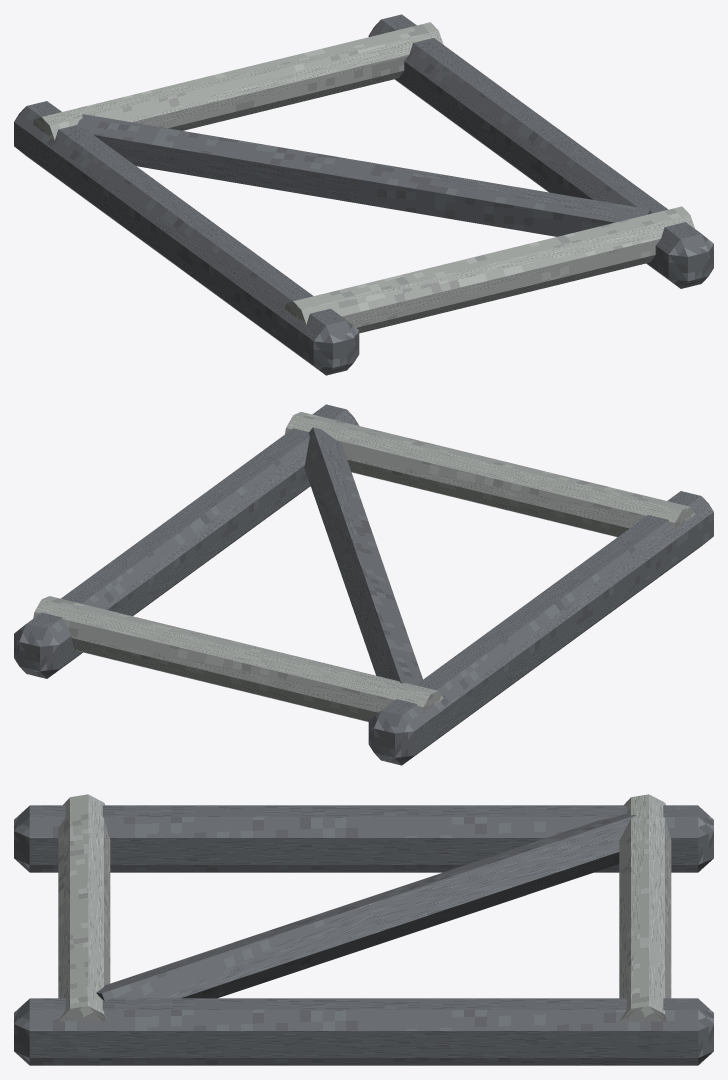
File: xlframe.glb
The picture shows the model from 3 angles, top to bottom: view 1: azimuth 30°, elevation 25°; view 2: azimuth 150°, elevation 25°; view 3: azimuth 270°, elevation 25°; orthographic projection. The views are drawn at different scales.
Parts seen in each view (by area): view 1: block_longitudinal frame rail (×2), block_cross brace (×2), block_diagonal structural member 0, block_diagonal structural member 1; view 2: block_longitudinal frame rail (×2), block_cross brace (×2), block_diagonal structural member 1, block_diagonal structural member 0; view 3: block_longitudinal frame rail (×2), block_cross brace (×2), block_diagonal structural member 0, block_diagonal structural member 1.
Part boxes in pixels (x1=…): block_longitudinal frame rail (×2): x1=14, y1=14, x2=713, y2=375; block_cross brace (×2): x1=33, y1=22, x2=694, y2=333; block_diagonal structural member 0: x1=76, y1=114, x2=366, y2=203; block_diagonal structural member 1: x1=357, y1=162, x2=651, y2=236; block_longitudinal frame rail (×2): x1=14, y1=404, x2=713, y2=765; block_cross brace (×2): x1=33, y1=412, x2=695, y2=721; block_diagonal structural member 1: x1=304, y1=427, x2=381, y2=574; block_diagonal structural member 0: x1=341, y1=555, x2=422, y2=685; block_longitudinal frame rail (×2): x1=14, y1=805, x2=713, y2=1065; block_cross brace (×2): x1=58, y1=794, x2=671, y2=1021; block_diagonal structural member 0: x1=351, y1=814, x2=635, y2=947; block_diagonal structural member 1: x1=96, y1=903, x2=379, y2=1000.
Size of the model in its own units: 0.3012 by 0.0409 by 0.4093.
1 material, 1 textured.
